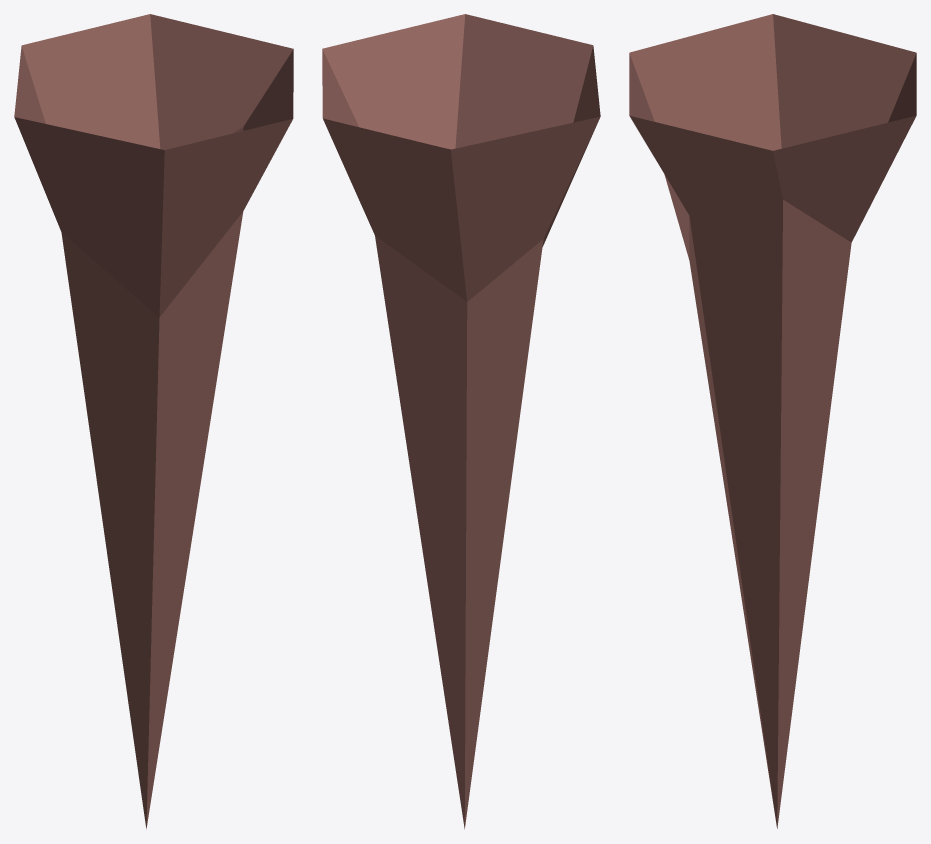
Rendered from Stalacmite-B04.fbx.
The picture shows the model from 3 angles, left to right: view 1: azimuth 30°, elevation 25°; view 2: azimuth 150°, elevation 25°; view 3: azimuth 270°, elevation 25°; orthographic projection.
Parts seen in each view (by area): view 1: Stalacmite-B04; view 2: Stalacmite-B04; view 3: Stalacmite-B04.
Boxes of the visible parts, x1,y1,x2,y2 form: Stalacmite-B04: (14,14,293,829); Stalacmite-B04: (322,14,600,829); Stalacmite-B04: (629,14,916,828).
Bounding box in the file's own units: 64.15 × 164 × 56.91.
